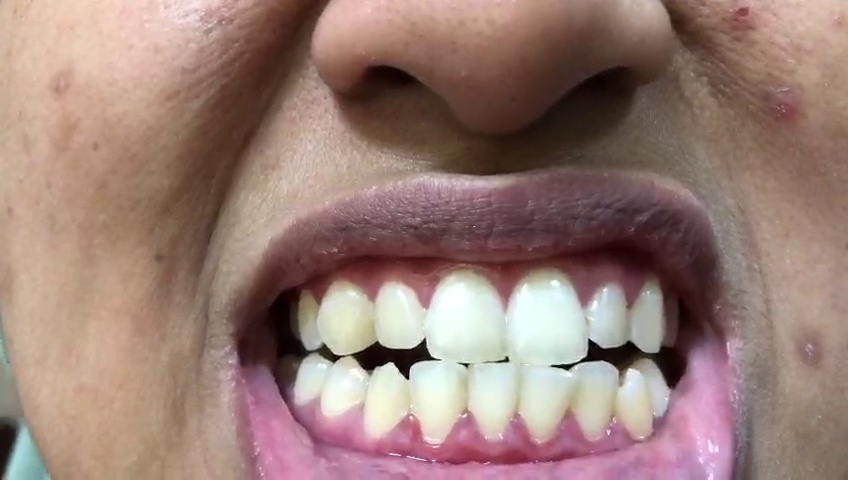1st Premolar: (322, 353, 367, 418), (636, 356, 673, 419), (294, 285, 322, 351)
2nd Premolar: (291, 356, 330, 408)
Canine: (318, 277, 376, 354), (364, 363, 410, 440), (630, 273, 666, 353), (617, 366, 653, 442)
Central Incisor: (509, 267, 589, 367), (427, 266, 507, 364), (469, 363, 521, 444), (521, 366, 574, 444)
Lateral Incisor: (413, 358, 467, 443), (371, 279, 428, 349), (570, 359, 617, 440), (586, 274, 630, 350)
